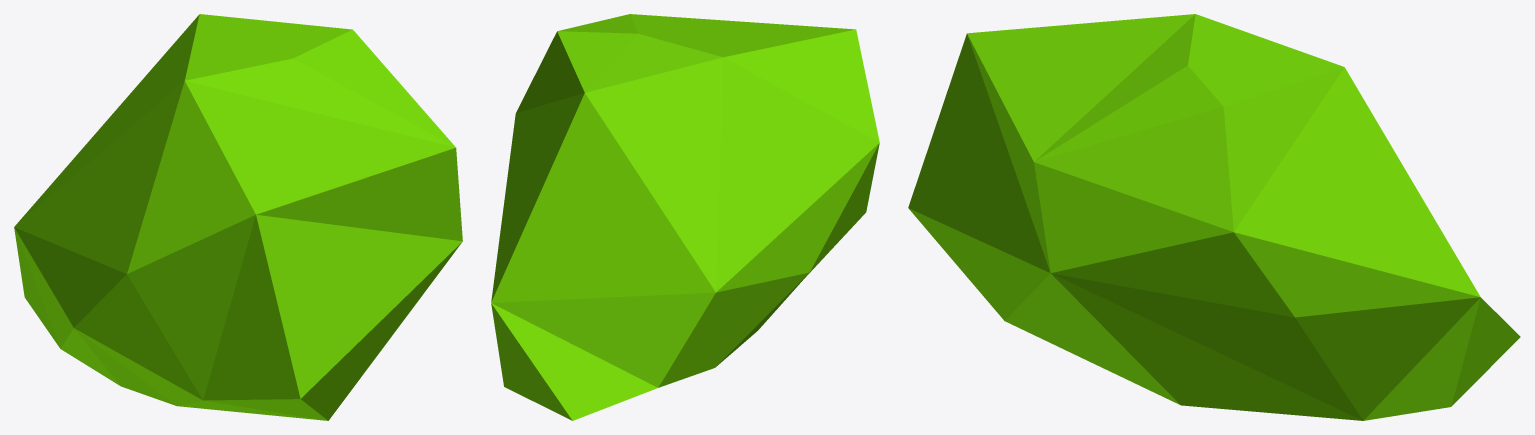
Rendered from 144-PV-paraventricular thalamic nucleus-('0.5333', '1.0000', '0.0000').obj.
3 views of the same model, side by side, from view 1: azimuth 30°, elevation 25°; view 2: azimuth 150°, elevation 25°; view 3: azimuth 270°, elevation 25° (orthographic). The views are drawn at different scales.
Bounding box in the file's own units: 9.66 × 9.25 × 14.71.
